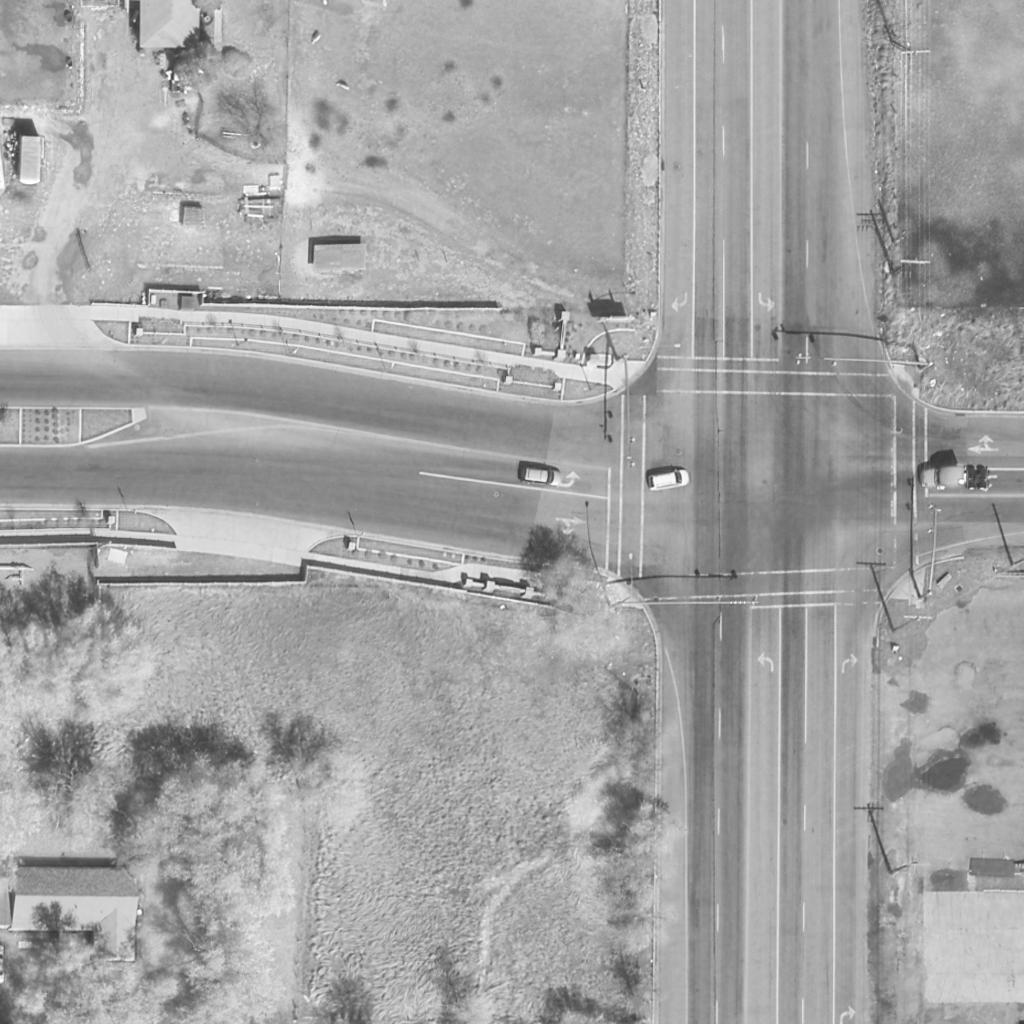vehicle: (919, 467, 995, 491), (644, 470, 692, 492), (524, 464, 562, 490)
